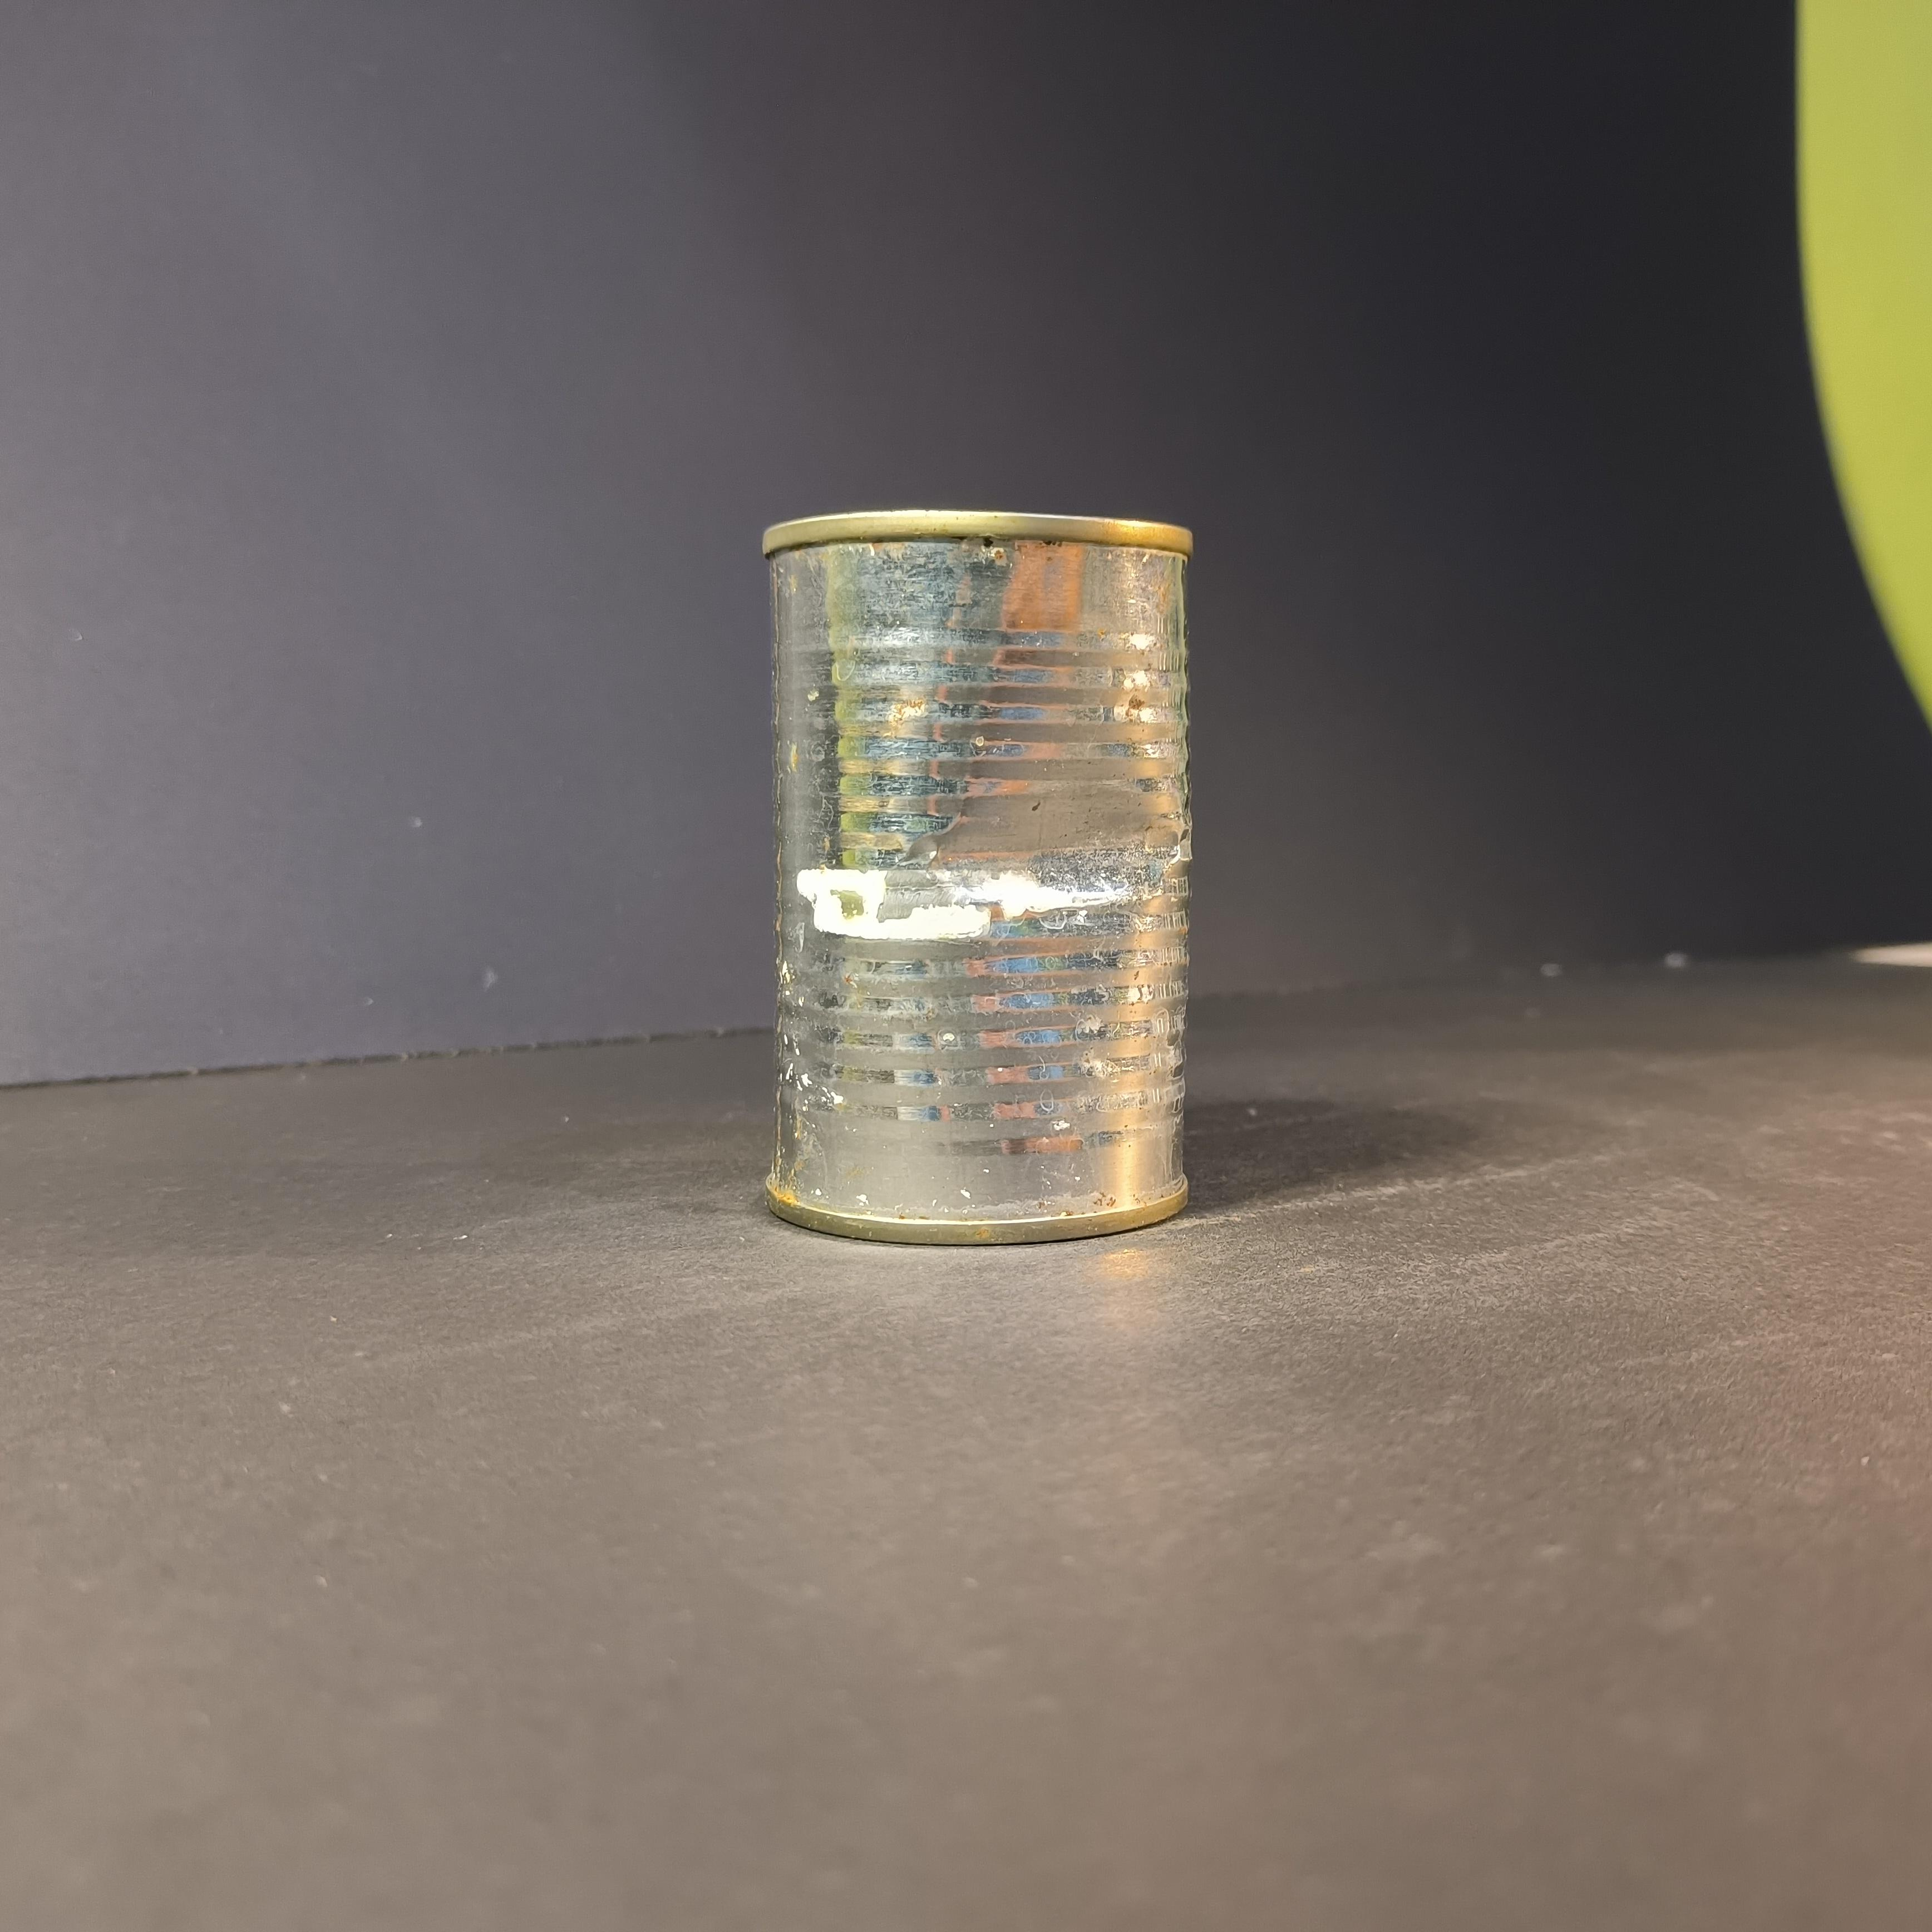Minor Defect: (758, 504, 1197, 1251)
